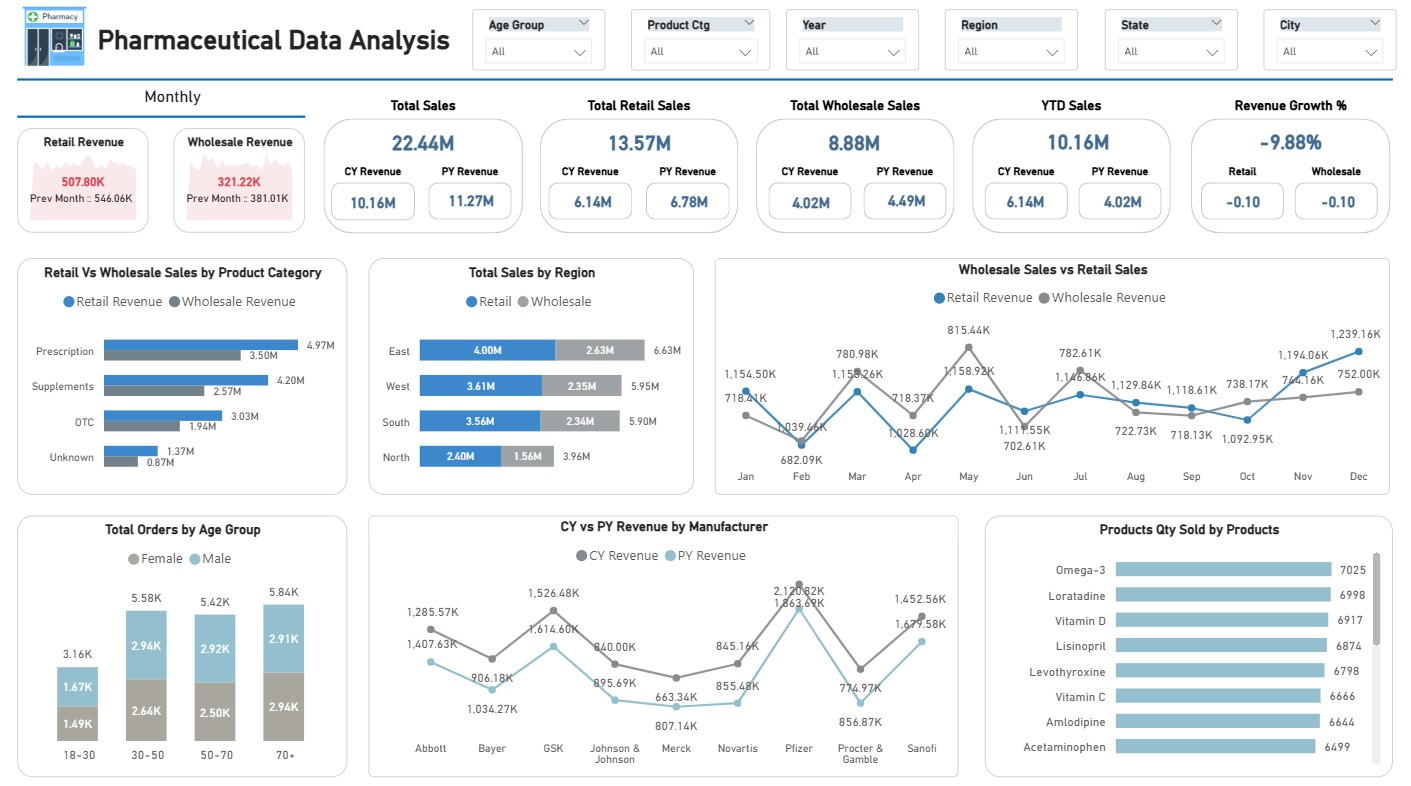

The page's visual inventory and layout, read from the dashboard file:
{"tool":"powerbi","page":{"name":"Pharma Data","canvas":[1280,720],"ordinal":0},"visuals":[{"type":"slicer","fields":{"Values":["Pharma Data.Age Group"]},"box":[429.9,14.4,120,54.8],"z":0},{"type":"shape","title":"Total  Sales","box":[294.8,94.7,179.8,122.2],"z":1000},{"type":"card","title":"Sales","fields":{"Values":["Measure.Total Revenue"]},"box":[332,122.2,105.5,27.6],"z":2000},{"type":"shape","title":"Total Retail Sales","box":[490.1,95,179,122],"z":3000},{"type":"shape","title":"Total Wholesale Sales","box":[685.2,95,179,122],"z":4000},{"type":"kpi","title":"Wholesale Revenue","fields":{"Goal":["Measure.Prev Month Wholesale Revenue"],"TrendLine":["Calendar Table.Start of Month"],"Indicator":["Measure.Wholesale revenue"]},"box":[160.6,122.2,118.7,94.7],"z":5000},{"type":"clusteredBarChart","title":"Retail Vs Wholesale Sales by Product Category","fields":{"Category":["Pharma Data.Product_Category"],"Y":["Measure.Retail Revenue","Measure.Wholesale Revenue"]},"box":[19.2,238.5,297.2,213.3],"z":6000},{"type":"columnChart","title":"Total Orders by Age Group","fields":{"Category":["Pharma Data.Age Group"],"Series":["Pharma Data.Customer_Gender"],"Y":["Measure.Total Orders"]},"box":[19.2,471,297.2,236.1],"z":7000},{"type":"barChart","title":"Products Qty Sold by Products","fields":{"Category":["Pharma Data.Product_Name"],"Y":["Measure.Quantity sold"]},"box":[891.7,471,367.9,236.1],"z":8000},{"type":"slicer","fields":{"Values":["Pharma Data.State"]},"box":[999.2,14.4,120,54.8],"z":9000},{"type":"slicer","fields":{"Values":["Pharma Data.Region"]},"box":[855.7,14.4,120,54.8],"z":10000},{"type":"slicer","fields":{"Values":["Pharma Data.Product_Category"]},"box":[572.9,14.4,125.8,55.1],"z":11000},{"type":"slicer","fields":{"Values":["Pharma Data.City"]},"box":[1142.7,14.4,120,54.8],"z":12000},{"type":"textbox","box":[86.8,23.2,341.2,40.4],"z":13000},{"type":"lineChart","title":"Wholesale Sales vs Retail Sales","fields":{"Category":["Calendar Table.Month Name"],"Y":["Measure.Retail Revenue"],"Y2":["Measure.Wholesale revenue"]},"box":[648.4,238.5,608.8,213.3],"z":14000},{"type":"textbox","box":[86.6,79.4,148.6,31.7],"z":15000},{"type":"shape","box":[18.8,101,259.7,20.2],"z":16000},{"type":"shape","box":[19.2,74.3,1240.4,7.2],"z":17000},{"type":"barChart","title":"Total Sales by Region","fields":{"Category":["Pharma Data.Region"],"Y":["Measure.Total Revenue"],"Series":["Pharma Data.Business Mode"]},"box":[335.6,238.5,293.6,213.3],"z":18000},{"type":"shape","title":"YTD Sales","box":[880.2,95,179,122],"z":19000},{"type":"shape","title":"CY Revenue","box":[301.9,156,75.8,49.7],"z":20000},{"type":"shape","title":"PY Revenue","box":[390.1,156,75,49],"z":21000},{"type":"card","title":"Sales","fields":{"Values":["Measure.CY Revenue"]},"box":[306.4,176.4,66.7,29.4],"z":22000},{"type":"card","title":"Sales","fields":{"Values":["Measure.PY Revenue"]},"box":[395.5,175,65.9,28.8],"z":23000},{"type":"shape","title":"CY Revenue","box":[498.6,156,75.5,49.1],"z":24000},{"type":"shape","title":"PY Revenue","box":[586.1,156,75.5,49.1],"z":25000},{"type":"card","title":"Sales","fields":{"Values":["Measure.CY Retail Revenue"]},"box":[505.8,176.2,64.7,28.8],"z":26000},{"type":"card","title":"Sales","fields":{"Values":["Measure.PY Retail Revenue"]},"box":[593.3,176.2,64.7,28.8],"z":27000},{"type":"card","title":"Sales","fields":{"Values":["Measure.Retail Revenue"]},"box":[527.3,122.2,105.5,27.6],"z":28000},{"type":"card","title":"Sales","fields":{"Values":["Measure.Wholesale revenue"]},"box":[721.5,122.2,105.5,27.6],"z":29000},{"type":"kpi","title":"Retail Revenue","fields":{"Indicator":["Measure.Retail Revenue"],"Goal":["Measure.Prev Month Retail Revenue"],"TrendLine":["Calendar Table.Start of Month"]},"box":[19.2,122.2,118.7,94.7],"z":30000},{"type":"image","box":[19.2,4.8,67.1,69.5],"z":31000},{"type":"slicer","fields":{"Values":["Calendar Table.Year"]},"box":[712.3,14.4,120,54.8],"z":32000},{"type":"lineChart","title":"CY vs PY Revenue by Manufacturer","fields":{"Y":["Measure.CY Revenue"],"Category":["Pharma Data.Manufacturer"],"Y2":["Measure.PY Revenue"]},"box":[335.6,471,532.1,236.1],"z":33000},{"type":"shape","title":"CY Revenue","box":[696.3,156,75,49.1],"z":34000},{"type":"card","title":"Sales","fields":{"Values":["Measure.CY Wholesale Revenue"]},"box":[702.6,176.5,65.9,27.6],"z":35000},{"type":"shape","title":"PY Revenue","box":[782.7,156,75,49],"z":36000},{"type":"card","title":"Sales","fields":{"Values":["Measure.PY Wholesale Revenue"]},"box":[788.6,175,64.7,28.8],"z":37000},{"type":"shape","title":"CY Revenue","box":[891.5,155.8,75,49],"z":38000},{"type":"card","title":"Sales","fields":{"Values":["Measure.YTD Retail Revenue"]},"box":[896.3,176.2,64.7,27.6],"z":39000},{"type":"shape","title":"PY Revenue","box":[976.5,156,75,49],"z":40000},{"type":"card","title":"Sales","fields":{"Values":["Measure.YTD wholesale sales"]},"box":[984,176.2,64.7,27.6],"z":41000},{"type":"card","title":"Sales","fields":{"Values":["Measure.YTD Total Revenue"]},"box":[922.8,121,105.5,28.8],"z":42000},{"type":"shape","title":"Revenue Growth %","box":[1077.5,94.7,179.8,122.2],"z":43000},{"type":"shape","title":"Retail","box":[1086,155.8,75,49.1],"z":44000},{"type":"card","title":"Sales","fields":{"Values":["Measure.Retail Growth %"]},"box":[1092,176,64.7,27.6],"z":45000},{"type":"shape","title":"Wholesale","box":[1170.9,156,75,49.1],"z":46000},{"type":"card","title":"Sales","fields":{"Values":["Measure.Wholesale Growth %"]},"box":[1178.1,176.2,64.7,27.6],"z":47000},{"type":"card","title":"Sales","fields":{"Values":["Measure.Growth %"]},"box":[1114.6,121,105.5,28.8],"z":48000}]}

Visuals, with their boxes in screenshot pixels (x1, y1, x2, y2), scaled from the page's 1280x720 canvas onto the 1411x786 screenshot:
slicer - Pharma Data.Age Group: select_region(474, 16, 606, 76)
"Total  Sales" shape: select_region(325, 103, 523, 237)
"Sales" card: select_region(366, 133, 482, 164)
"Total Retail Sales" shape: select_region(540, 104, 738, 237)
"Total Wholesale Sales" shape: select_region(755, 104, 953, 237)
"Wholesale Revenue" kpi: select_region(177, 133, 308, 237)
"Retail Vs Wholesale Sales by Product Category" clusteredBarChart: select_region(21, 260, 349, 493)
"Total Orders by Age Group" columnChart: select_region(21, 514, 349, 772)
"Products Qty Sold by Products" barChart: select_region(983, 514, 1389, 772)
slicer - Pharma Data.State: select_region(1101, 16, 1234, 76)
slicer - Pharma Data.Region: select_region(943, 16, 1076, 76)
slicer - Pharma Data.Product_Category: select_region(632, 16, 770, 76)
slicer - Pharma Data.City: select_region(1260, 16, 1392, 76)
textbox: select_region(96, 25, 472, 69)
"Wholesale Sales vs Retail Sales" lineChart: select_region(715, 260, 1386, 493)
textbox: select_region(95, 87, 259, 121)
shape: select_region(21, 110, 307, 132)
shape: select_region(21, 81, 1389, 89)
"Total Sales by Region" barChart: select_region(370, 260, 694, 493)
"YTD Sales" shape: select_region(970, 104, 1168, 237)
"CY Revenue" shape: select_region(333, 170, 416, 225)
"PY Revenue" shape: select_region(430, 170, 513, 224)
"Sales" card: select_region(338, 193, 411, 225)
"Sales" card: select_region(436, 191, 509, 222)
"CY Revenue" shape: select_region(550, 170, 633, 224)
"PY Revenue" shape: select_region(646, 170, 729, 224)
"Sales" card: select_region(558, 192, 629, 224)
"Sales" card: select_region(654, 192, 725, 224)
"Sales" card: select_region(581, 133, 698, 164)
"Sales" card: select_region(795, 133, 912, 164)
"Retail Revenue" kpi: select_region(21, 133, 152, 237)
image: select_region(21, 5, 95, 81)
slicer - Calendar Table.Year: select_region(785, 16, 917, 76)
"CY vs PY Revenue by Manufacturer" lineChart: select_region(370, 514, 957, 772)
"CY Revenue" shape: select_region(768, 170, 850, 224)
"Sales" card: select_region(775, 193, 847, 223)
"PY Revenue" shape: select_region(863, 170, 945, 224)
"Sales" card: select_region(869, 191, 941, 222)
"CY Revenue" shape: select_region(983, 170, 1065, 224)
"Sales" card: select_region(988, 192, 1059, 222)
"PY Revenue" shape: select_region(1076, 170, 1159, 224)
"Sales" card: select_region(1085, 192, 1156, 222)
"Sales" card: select_region(1017, 132, 1134, 164)
"Revenue Growth %" shape: select_region(1188, 103, 1386, 237)
"Retail" shape: select_region(1197, 170, 1280, 224)
"Sales" card: select_region(1204, 192, 1275, 222)
"Wholesale" shape: select_region(1291, 170, 1373, 224)
"Sales" card: select_region(1299, 192, 1370, 222)
"Sales" card: select_region(1229, 132, 1345, 164)
